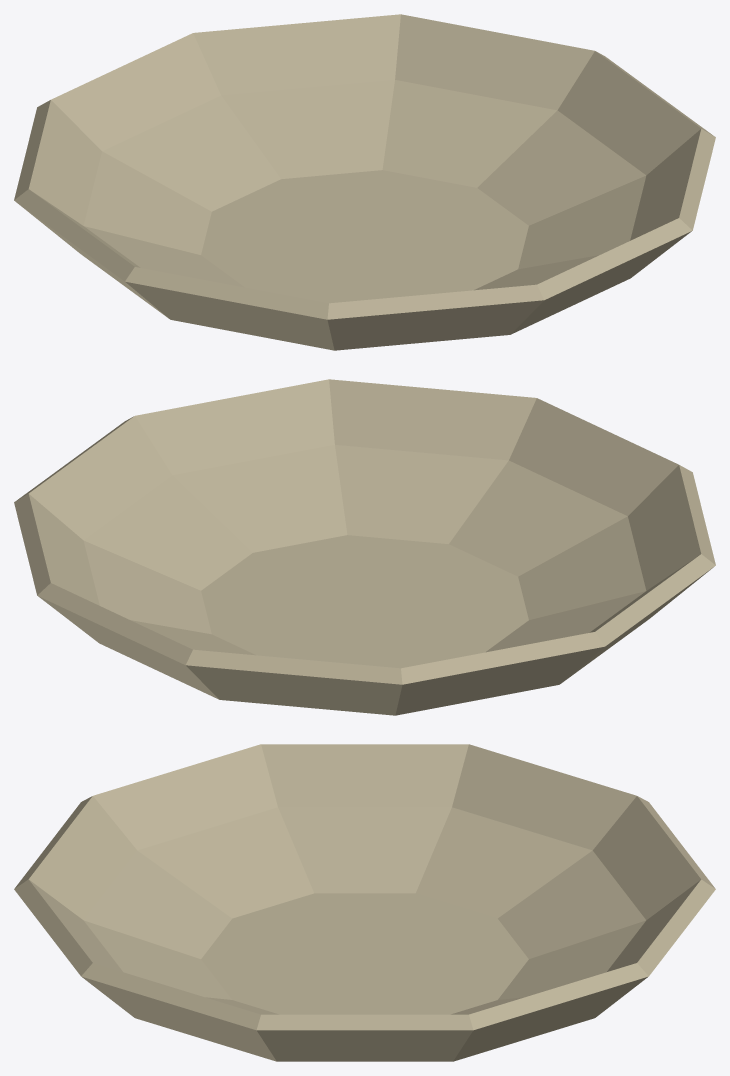
File: plate.gltf
3 renders of one model, top to bottom at view 1: azimuth 30°, elevation 25°; view 2: azimuth 150°, elevation 25°; view 3: azimuth 270°, elevation 25°, orthographic. The views are drawn at different scales.
Visible parts, largest first — view 1: Plate; view 2: Plate; view 3: Plate.
Boxes of the visible parts, box(x1,y1,x2,y2) form: Plate: box(14, 14, 715, 350); Plate: box(14, 379, 715, 715); Plate: box(14, 744, 715, 1061).
Bounding box in the file's own units: 0.511 × 0.0877 × 0.5373.
Materials: 1 (1 with a texture image).
